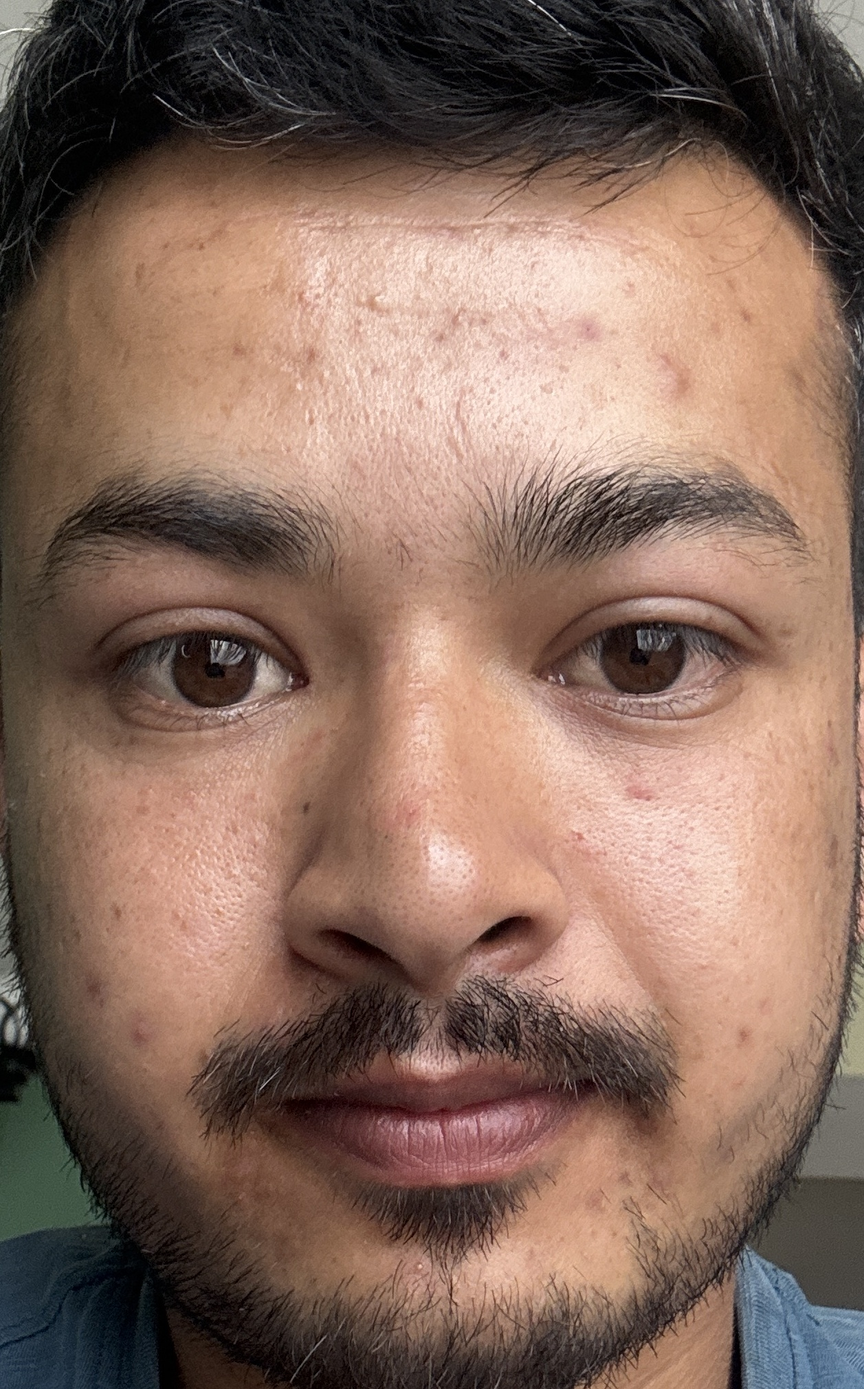papule: (643, 347, 710, 414), (347, 274, 398, 354), (118, 998, 189, 1049), (728, 1012, 769, 1067)
